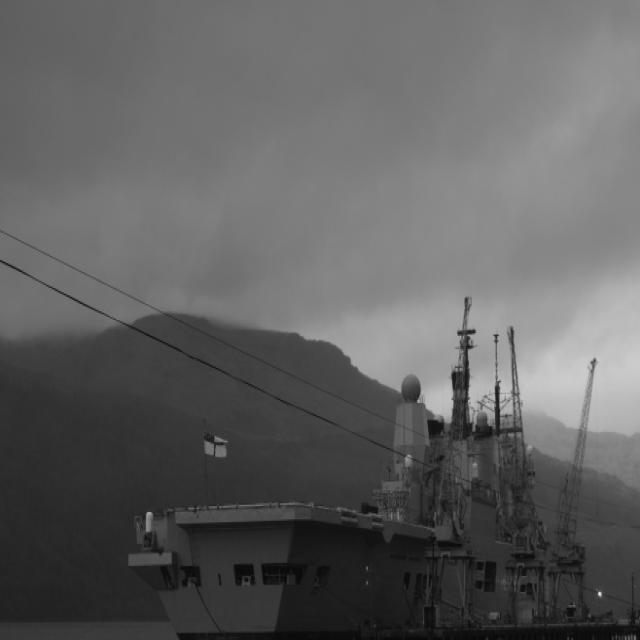Portanaves: (128, 287, 614, 640)
